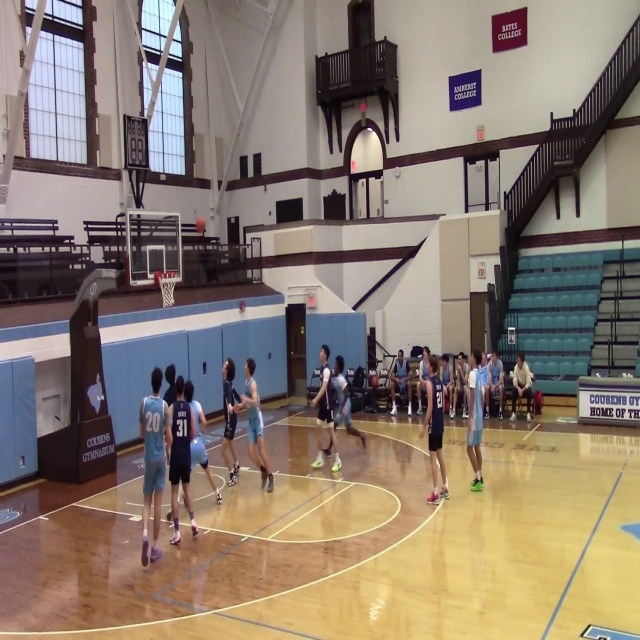Basketball: (190, 437, 208, 465), (195, 216, 206, 231)
